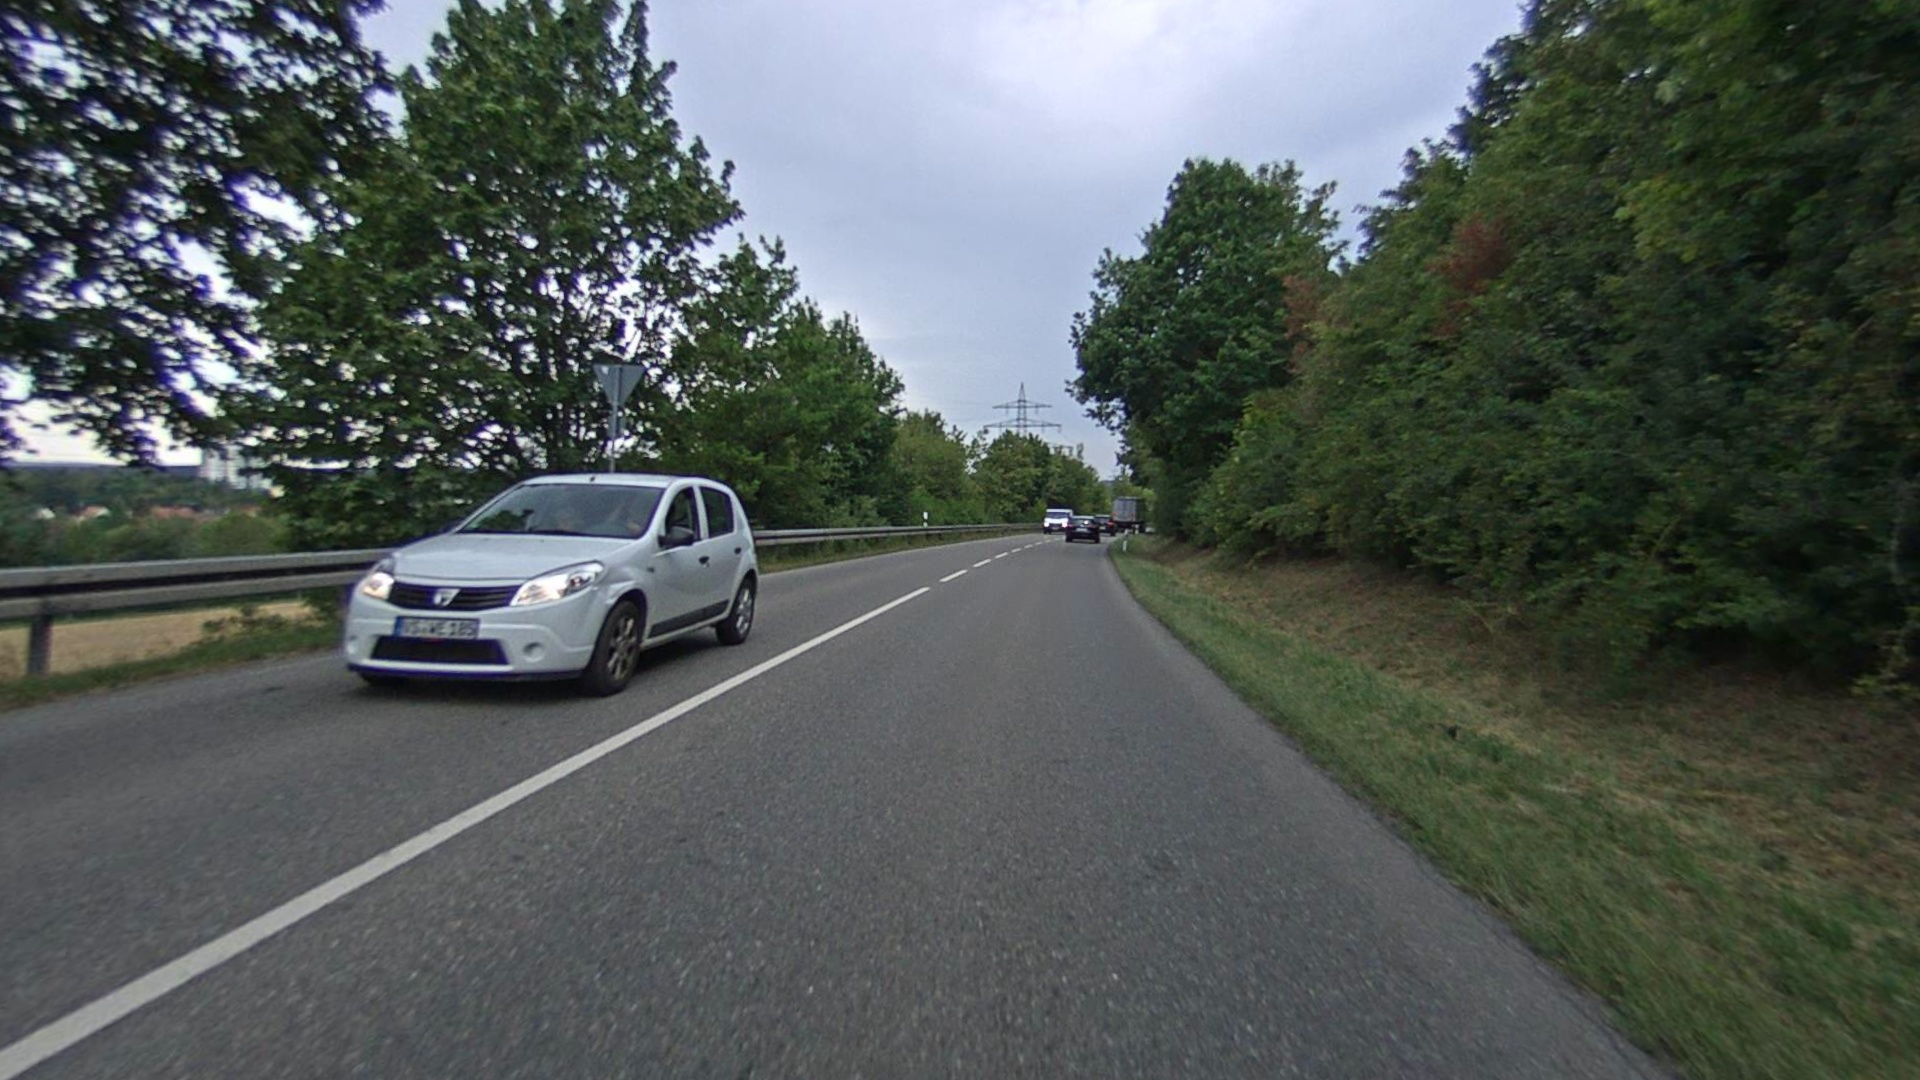car: (338, 469, 766, 702)
